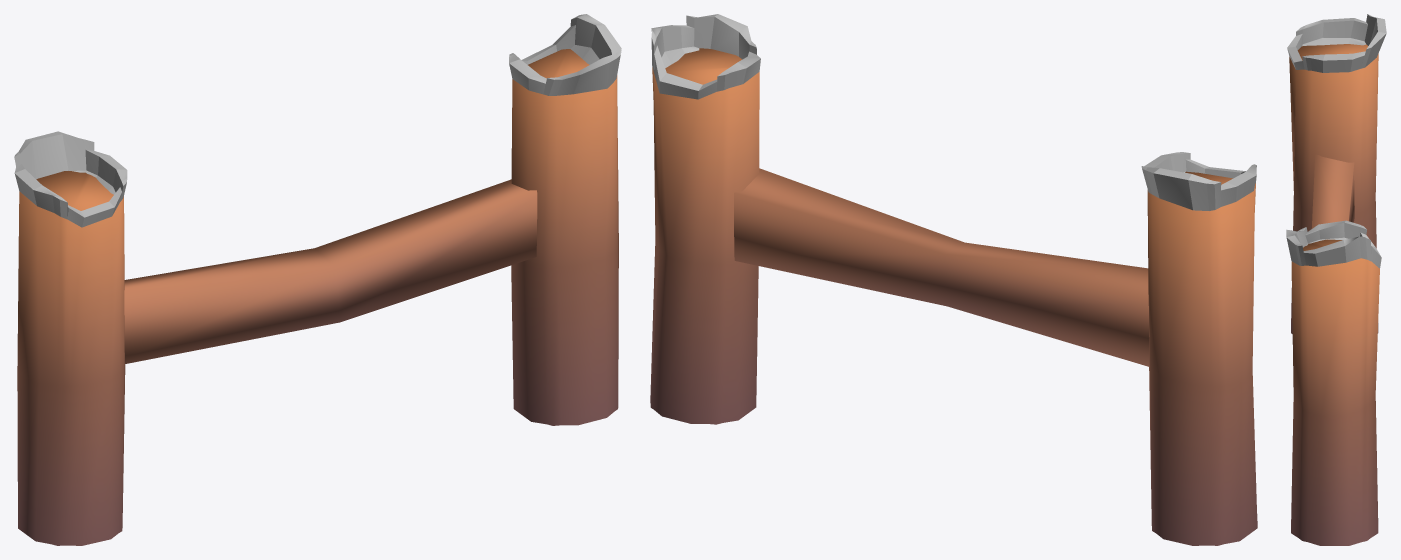
The model's file is FenceRemeshed.fbx.
3 renders of one model, left to right at view 1: azimuth 30°, elevation 25°; view 2: azimuth 150°, elevation 25°; view 3: azimuth 270°, elevation 25°, orthographic. The views are drawn at different scales.
Visible parts, largest first — view 1: Fence02, Fence02.001; view 2: Fence02, Fence02.001; view 3: Fence02, Fence02.001.
Part boxes in pixels (<box>): Fence02: <box>17,49,618,545</box>; Fence02.001: <box>14,14,621,227</box>; Fence02: <box>650,48,1257,545</box>; Fence02.001: <box>651,14,1256,210</box>; Fence02: <box>1289,44,1379,545</box>; Fence02.001: <box>1286,14,1386,268</box>.
Size of the model in its own units: 255 by 154 by 45.7.
